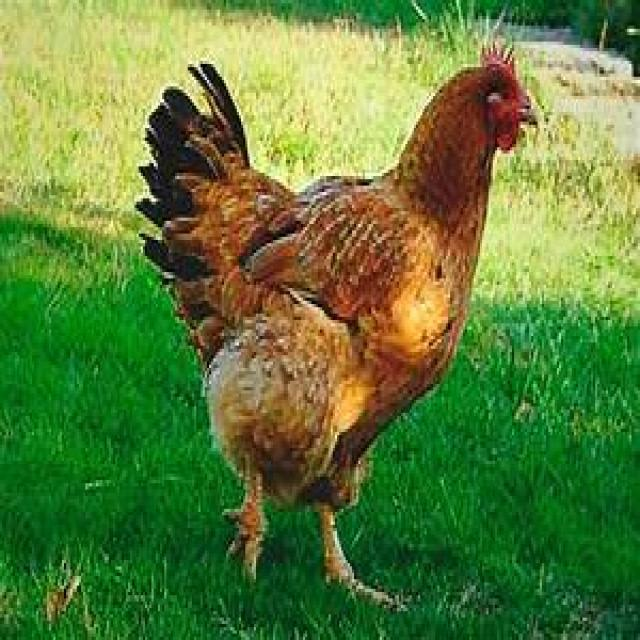hen: (139, 51, 533, 597)
